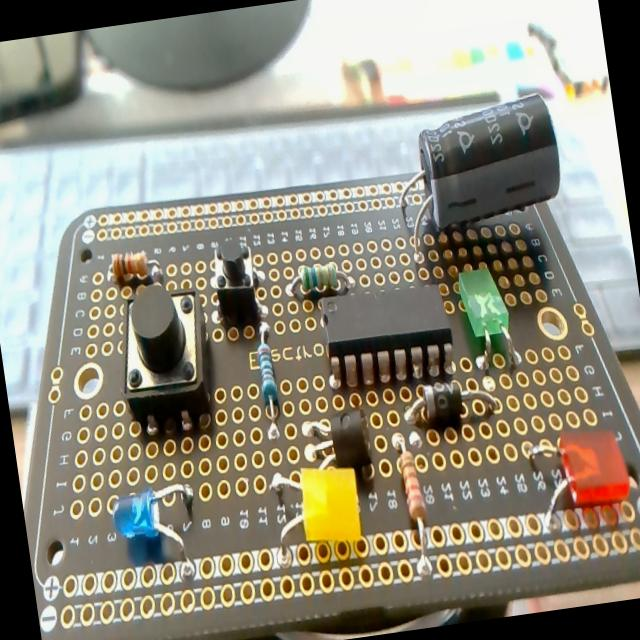Electrolytic capacitor: (382, 85, 575, 256)
IC: (317, 273, 458, 388)
diode: (399, 374, 500, 436)
led: (512, 399, 640, 536), (104, 476, 203, 578), (449, 260, 516, 364), (296, 458, 366, 550)
resistor: (388, 427, 436, 575), (250, 321, 286, 436), (286, 262, 356, 304), (109, 248, 162, 292)
switch: (108, 275, 220, 436), (204, 235, 267, 339)
transistor: (292, 396, 378, 472)
